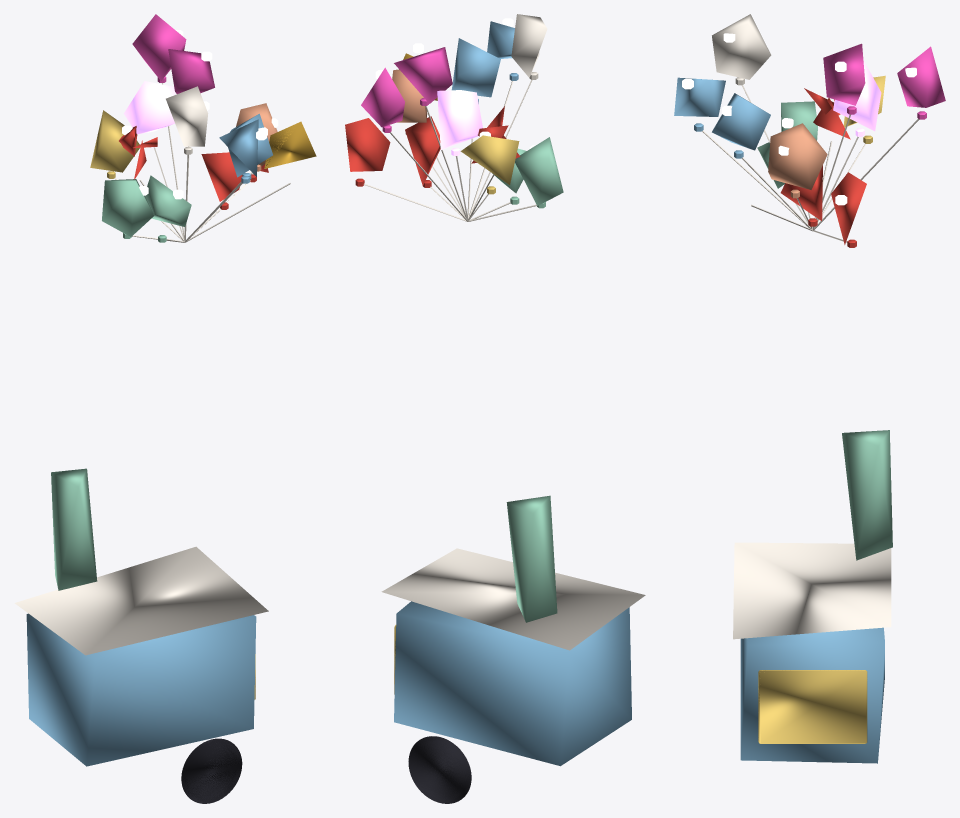
The model's file is balloon_stand.glb.
3 renders of one model, left to right at view 1: azimuth 30°, elevation 25°; view 2: azimuth 150°, elevation 25°; view 3: azimuth 270°, elevation 25°, orthographic. The views are drawn at different scales.
Visible parts, largest first — view 1: balloon_stand; view 2: balloon_stand; view 3: balloon_stand.
Part boxes in pixels (<box>): balloon_stand: <box>14,14,316,803</box>; balloon_stand: <box>345,14,645,803</box>; balloon_stand: <box>674,14,945,763</box>.
Size of the model in its own units: 1.1 by 3.13 by 0.9969.
1 material, 1 textured.
